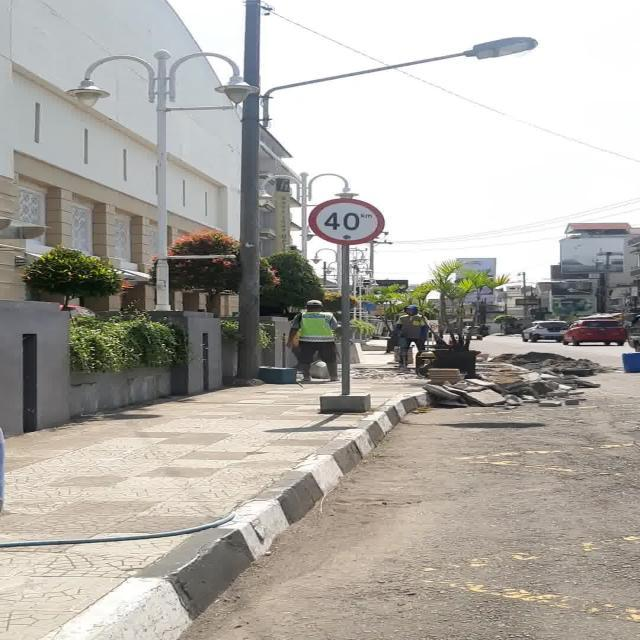Kecepatan Maks. 40 km: (308, 198, 385, 245)
